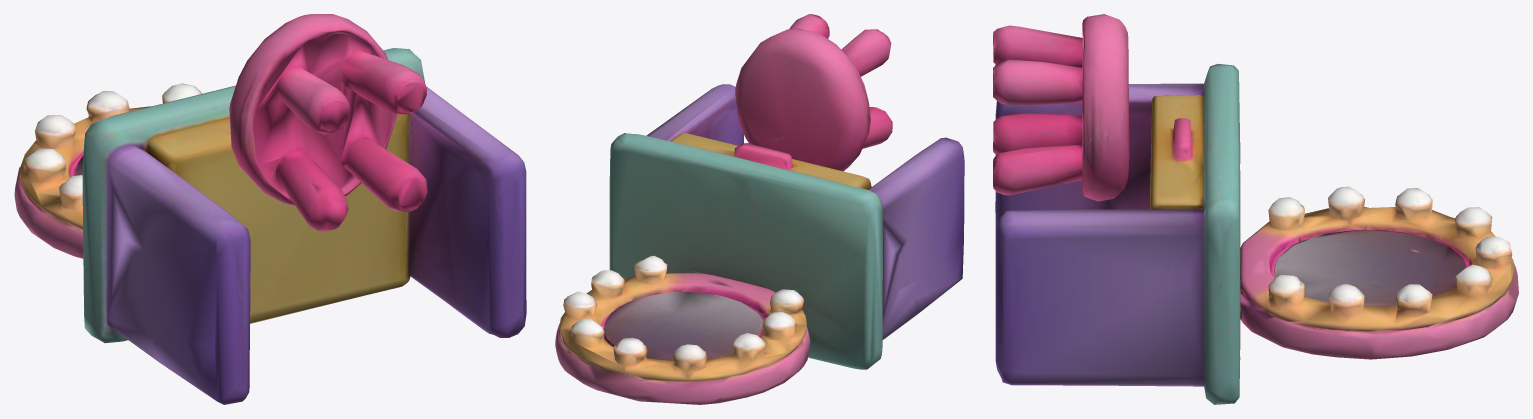
3 renders of one model, left to right at view 1: azimuth 30°, elevation 25°; view 2: azimuth 150°, elevation 25°; view 3: azimuth 270°, elevation 25°, orthographic. The views are drawn at different scales.
Parts seen in each view (by area): view 1: material; view 2: material; view 3: material.
Part boxes in pixels (left/top/right/bottom): material: left=14, top=14, right=526, bottom=404; material: left=555, top=14, right=964, bottom=404; material: left=993, top=14, right=1518, bottom=404.
Bounding box in the file's own units: 0.6818 × 0.6612 × 1.
1 material, 1 textured.
